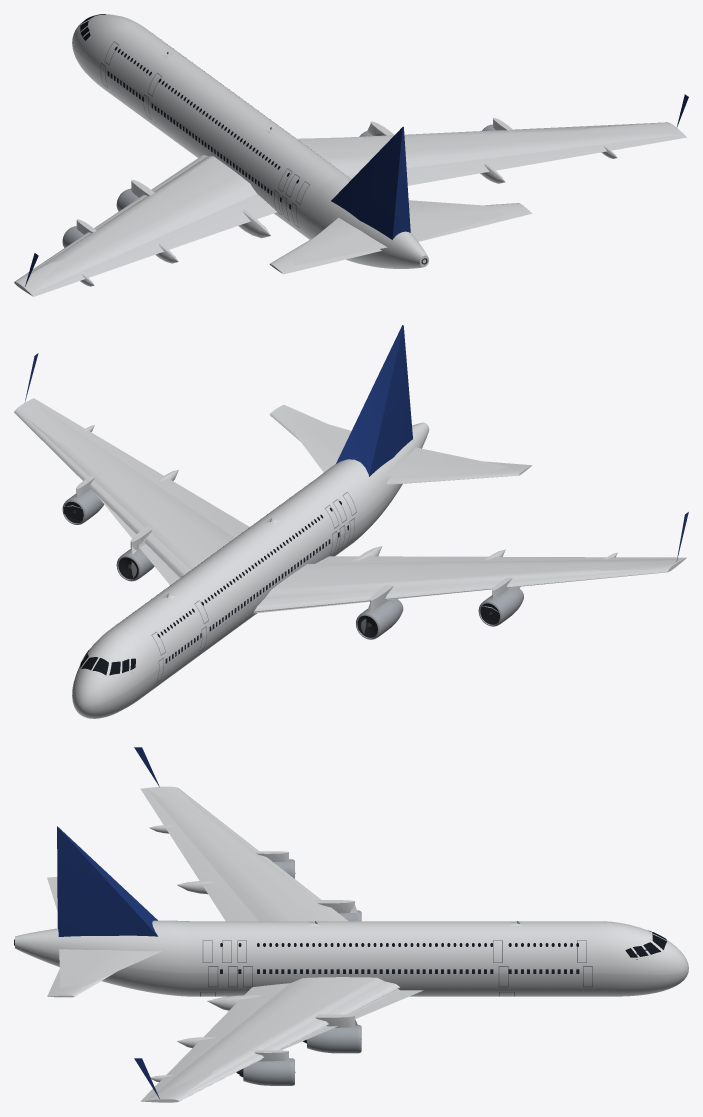
File: lat_a380.dae
3 views of the same model, one above another, from view 1: azimuth 30°, elevation 25°; view 2: azimuth 150°, elevation 25°; view 3: azimuth 270°, elevation 25° (orthographic). The views are drawn at different scales.
Parts seen in each view (by area): view 1: lat_a380_L150, lat_a380_L32, lat_a380_L1; view 2: lat_a380_L150, lat_a380_L32, lat_a380_L1; view 3: lat_a380_L150, lat_a380_L32, lat_a380_L1.
Part boxes in pixels (x1,y1,x2,y2): lat_a380_L150: (14,14,686,296); lat_a380_L32: (16,18,681,293); lat_a380_L1: (25,94,688,286); lat_a380_L150: (14,398,686,718); lat_a380_L32: (26,400,685,673); lat_a380_L1: (25,325,688,611); lat_a380_L150: (14,786,688,1102); lat_a380_L32: (144,788,646,1102); lat_a380_L1: (57,747,423,1098).
Bounding box in the file's own units: 79.8 × 72.82 × 20.28.
